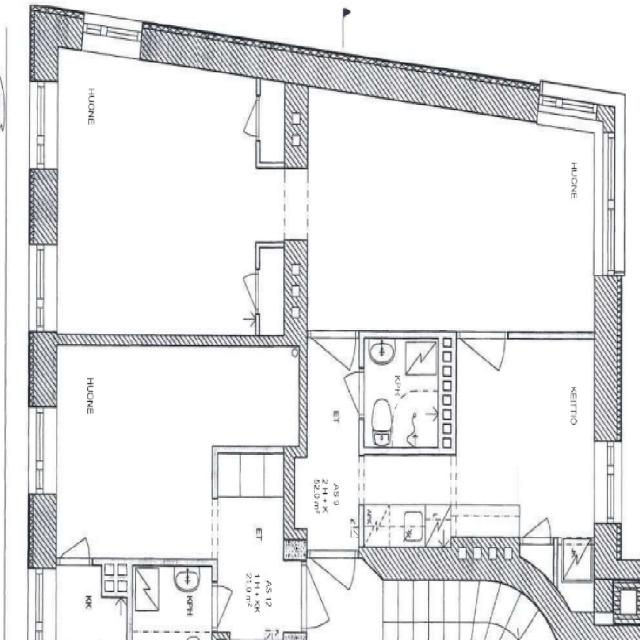door: (310, 544, 355, 622), (311, 330, 355, 401), (460, 330, 504, 400), (328, 372, 364, 414), (522, 497, 550, 546), (229, 100, 260, 136), (230, 274, 259, 309)
